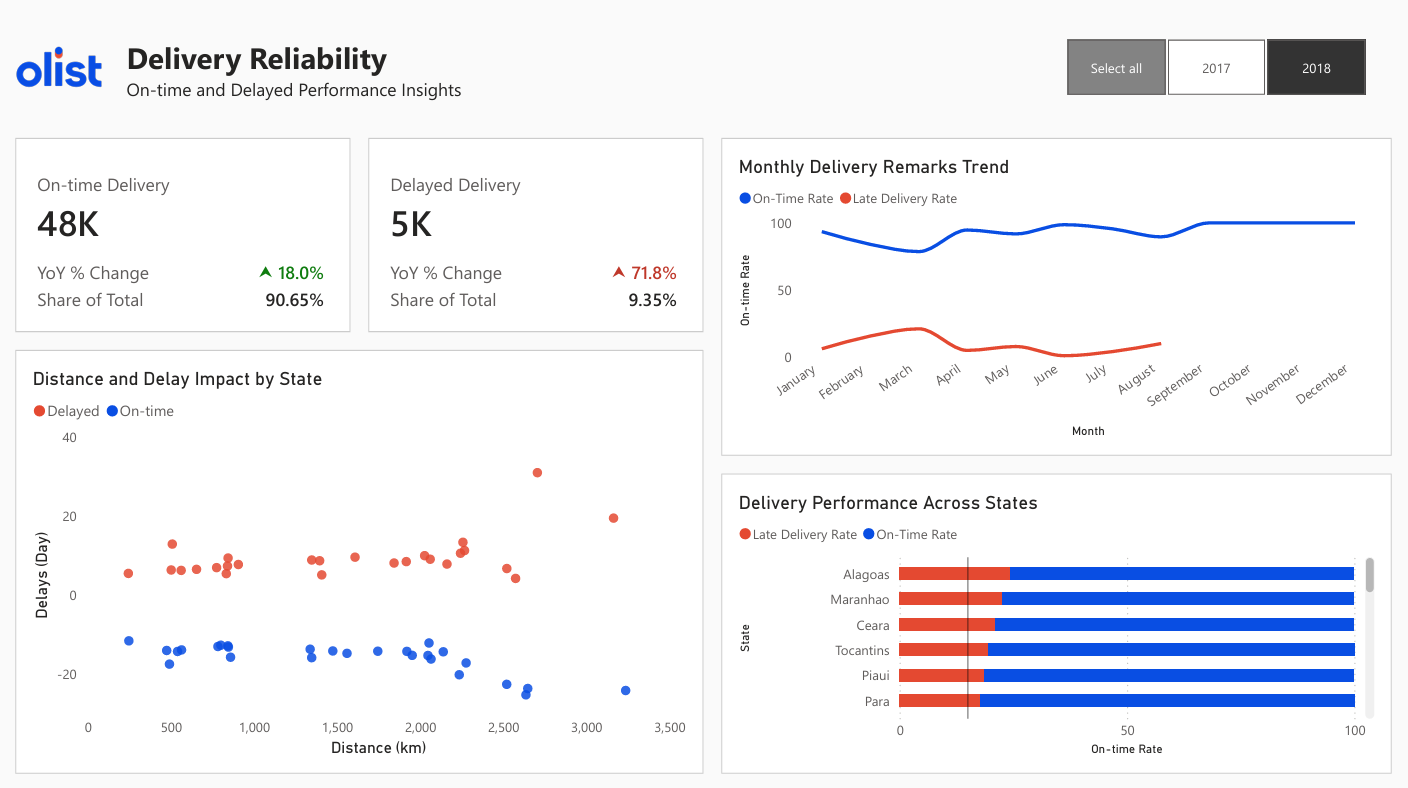

This screenshot's page, from the dashboard's own definition file:
{"tool":"powerbi","page":{"name":"Delivery Reliability","canvas":[1280,720],"ordinal":1},"visuals":[{"type":"scatterChart","title":"Distance and Delay Impact by State","fields":{"X":["Avg(Delivery Reliability.distance_km)"],"Y":["Avg(Delivery Reliability.days_diff)"],"Series":["Delivery Reliability.is_late"],"Category":["Delivery Reliability.customer_state_name"]},"box":[16,320,624,384],"z":0},{"type":"lineChart","title":"Monthly Delivery Remarks Trend","fields":{"Category":["Delivery Reliability.order_purchase_date.Variation.Date Hierarchy.Month"],"Y":["Delivery Reliability.On-Time Rate","Delivery Reliability.Late Delivery Rate"]},"box":[656,128,608,288],"z":1000},{"type":"barChart","title":"Delivery Performance Across States","fields":{"Category":["Delivery Reliability.customer_state_name"],"Y":["Delivery Reliability.Late Delivery Rate","Delivery Reliability.On-Time Rate"]},"box":[656,432,608,272],"z":2000},{"type":"slicer","fields":{"Values":["Delivery Reliability.Year"]},"box":[944,32,320,64],"z":3000},{"type":"cardVisual","fields":{"Data":["Delivery Reliability.Orders Delivered on Time"]},"box":[16,128,304,176],"z":4000},{"type":"textbox","box":[112,32,848,80],"z":5000},{"type":"image","box":[16,16,80,96],"z":6000},{"type":"cardVisual","fields":{"Data":["Delivery Reliability.Orders Delivered Late"]},"box":[336,128,304,176],"z":7000}]}

Visuals, with their boxes in screenshot pixels (x1, y1, x2, y2), scaled from the page's 1280x720 canvas onto the 1408x788 screenshot:
"Distance and Delay Impact by State" scatterChart: [left=18, top=350, right=704, bottom=770]
"Monthly Delivery Remarks Trend" lineChart: [left=722, top=140, right=1390, bottom=455]
"Delivery Performance Across States" barChart: [left=722, top=473, right=1390, bottom=770]
slicer - Delivery Reliability.Year: [left=1038, top=35, right=1390, bottom=105]
cardVisual - Delivery Reliability.Orders Delivered on Time: [left=18, top=140, right=352, bottom=333]
textbox: [left=123, top=35, right=1056, bottom=123]
image: [left=18, top=18, right=106, bottom=123]
cardVisual - Delivery Reliability.Orders Delivered Late: [left=370, top=140, right=704, bottom=333]
